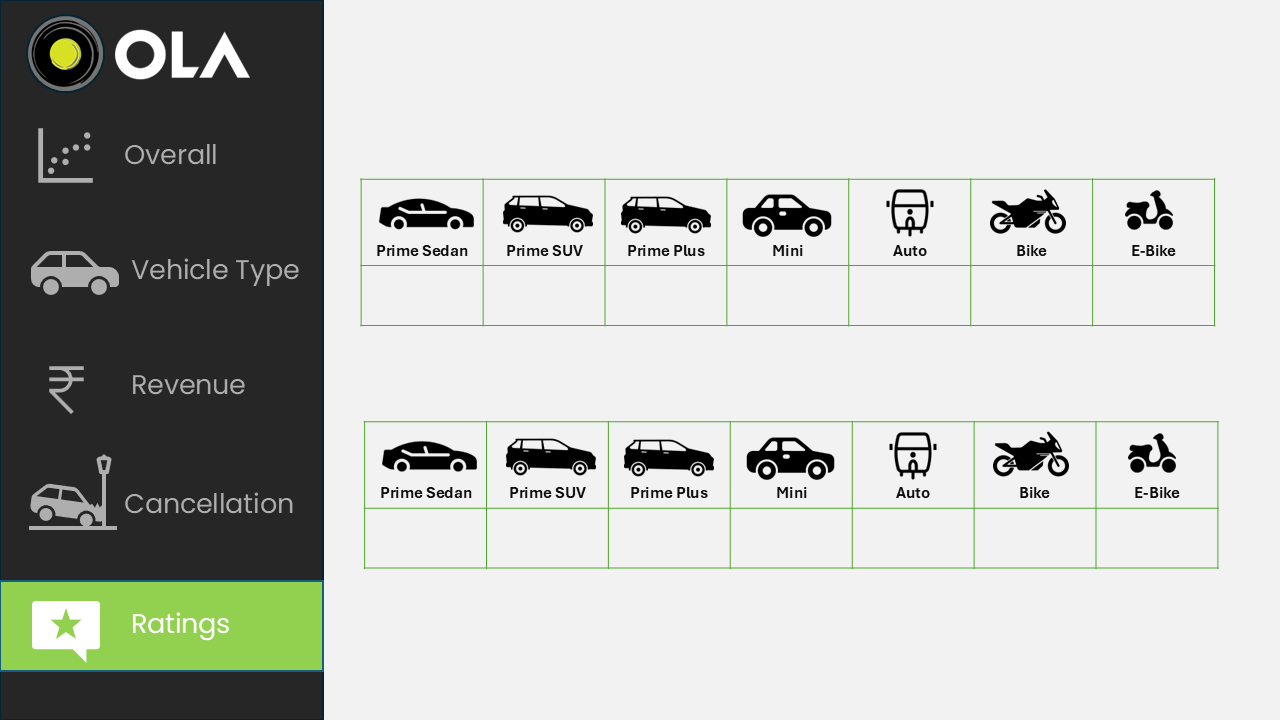

This screenshot's page, from the dashboard's own definition file:
{"tool":"powerbi","page":{"name":"Ratings","canvas":[1280,720],"ordinal":4},"visuals":[{"type":"actionButton","box":[0,223.8,325.4,94.3],"z":0},{"type":"actionButton","box":[0,339.9,325.4,94.3],"z":1000},{"type":"actionButton","box":[0,447.7,325.4,94.3],"z":2000},{"type":"actionButton","box":[0,105.7,325.4,94.3],"z":3000},{"type":"card","fields":{"Values":["Avg(Ola_bookings.Driver_Ratings)"]},"box":[364.9,265.1,117,53],"z":4000},{"type":"card","fields":{"Values":["Avg(Ola_bookings.Driver_Ratings)"]},"box":[485,265.1,117,53],"z":5000},{"type":"card","fields":{"Values":["Avg(Ola_bookings.Driver_Ratings)"]},"box":[606.6,265.1,117,53],"z":6000},{"type":"card","fields":{"Values":["Avg(Ola_bookings.Driver_Ratings)"]},"box":[729.8,265.1,117,53],"z":7000},{"type":"card","fields":{"Values":["Avg(Ola_bookings.Driver_Ratings)"]},"box":[851.5,265.1,117,53],"z":8000},{"type":"card","fields":{"Values":["Avg(Ola_bookings.Driver_Ratings)"]},"box":[973.1,265.1,117,53],"z":9000},{"type":"card","fields":{"Values":["Avg(Ola_bookings.Driver_Ratings)"]},"box":[1094.7,265.1,117,53],"z":10000},{"type":"textbox","box":[364.9,360.2,224.6,53],"z":11000},{"type":"textbox","box":[364.9,120.1,179.3,56.1],"z":11001},{"type":"card","fields":{"Values":["Avg(Ola_bookings.Customer_Rating)"]},"box":[366.5,508.4,117,53],"z":11002},{"type":"card","fields":{"Values":["Avg(Ola_bookings.Customer_Rating)"]},"box":[488.1,508.4,117,53],"z":11003},{"type":"card","fields":{"Values":["Avg(Ola_bookings.Customer_Rating)"]},"box":[609.7,508.4,117,53],"z":11004},{"type":"card","fields":{"Values":["Avg(Ola_bookings.Customer_Rating)"]},"box":[732.9,508.4,117,53],"z":11005},{"type":"card","fields":{"Values":["Avg(Ola_bookings.Customer_Rating)"]},"box":[853,508.4,117,53],"z":11006},{"type":"card","fields":{"Values":["Avg(Ola_bookings.Customer_Rating)"]},"box":[976.2,508.4,117,53],"z":11007},{"type":"card","fields":{"Values":["Avg(Ola_bookings.Customer_Rating)"]},"box":[1097.9,508.4,117,53],"z":11008}]}

Visuals, with their boxes on the page's 1280x720 design canvas (x1, y1, x2, y2). These are canvas units, not pixel positions in the 1280x720 screenshot, which may show the page scaled, cropped or inside an application window:
actionButton: 0:224:325:318
actionButton: 0:340:325:434
actionButton: 0:448:325:542
actionButton: 0:106:325:200
card - Avg(Ola_bookings.Driver_Ratings): 365:265:482:318
card - Avg(Ola_bookings.Driver_Ratings): 485:265:602:318
card - Avg(Ola_bookings.Driver_Ratings): 607:265:724:318
card - Avg(Ola_bookings.Driver_Ratings): 730:265:847:318
card - Avg(Ola_bookings.Driver_Ratings): 852:265:968:318
card - Avg(Ola_bookings.Driver_Ratings): 973:265:1090:318
card - Avg(Ola_bookings.Driver_Ratings): 1095:265:1212:318
textbox: 365:360:590:413
textbox: 365:120:544:176
card - Avg(Ola_bookings.Customer_Rating): 366:508:484:561
card - Avg(Ola_bookings.Customer_Rating): 488:508:605:561
card - Avg(Ola_bookings.Customer_Rating): 610:508:727:561
card - Avg(Ola_bookings.Customer_Rating): 733:508:850:561
card - Avg(Ola_bookings.Customer_Rating): 853:508:970:561
card - Avg(Ola_bookings.Customer_Rating): 976:508:1093:561
card - Avg(Ola_bookings.Customer_Rating): 1098:508:1215:561
